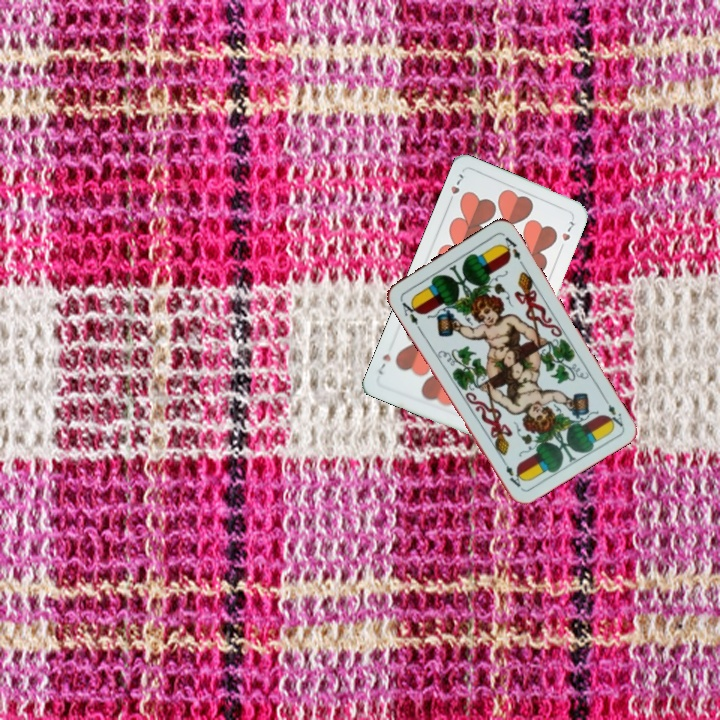EA: (599, 392, 626, 430), (396, 295, 423, 332)
H7: (444, 169, 466, 207)
